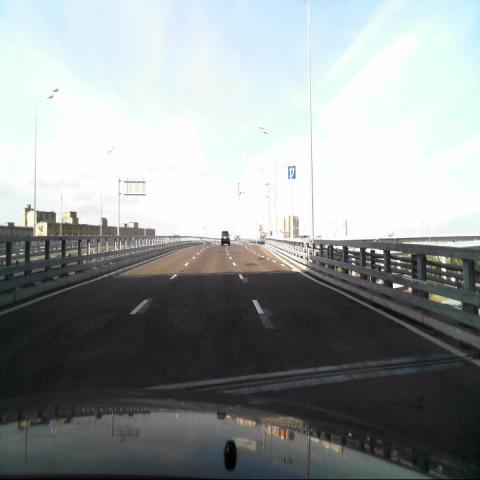5_15_3: (288, 166, 296, 180)
